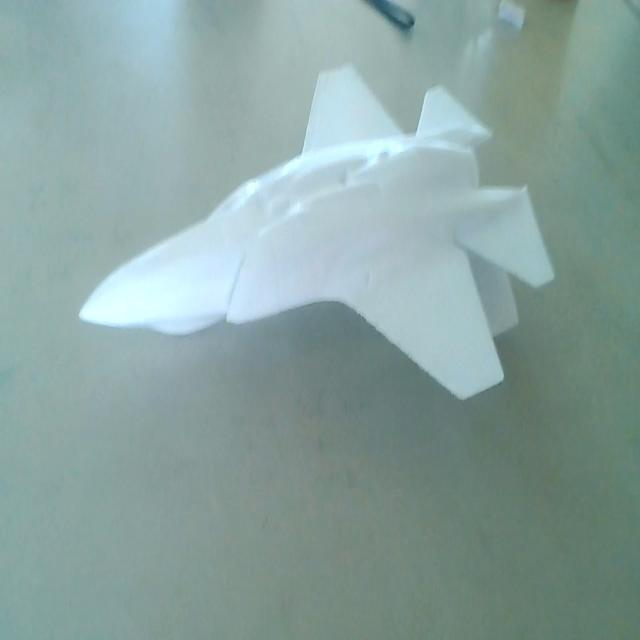Jet: (77, 59, 555, 423)
